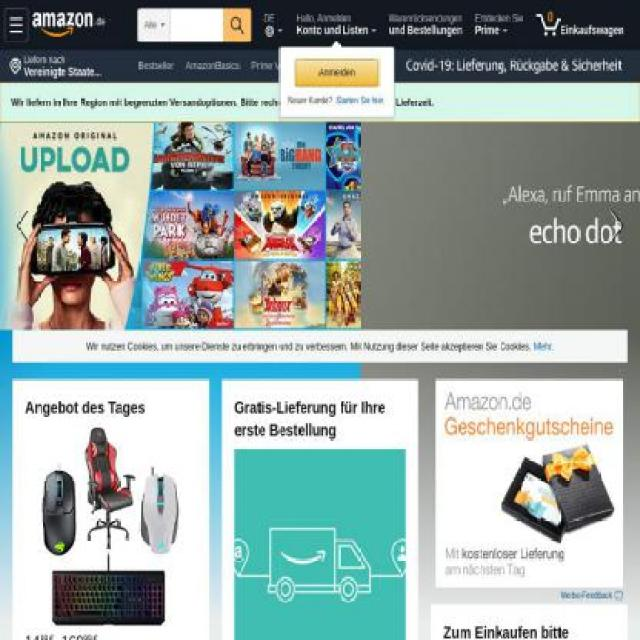button: (25, 427, 197, 627), (233, 448, 407, 640), (0, 122, 51, 330), (590, 122, 639, 330), (390, 50, 639, 84), (530, 5, 638, 47), (32, 4, 134, 45), (291, 5, 383, 47), (383, 5, 468, 47), (7, 51, 108, 83), (5, 8, 112, 38), (468, 5, 530, 47), (133, 128, 244, 150), (295, 59, 379, 87), (133, 92, 212, 113), (288, 92, 360, 113), (133, 165, 201, 187), (292, 128, 359, 150), (299, 165, 366, 187), (255, 5, 290, 47), (181, 55, 245, 77), (133, 202, 198, 223), (245, 55, 301, 77), (201, 165, 253, 187), (133, 55, 179, 77), (244, 128, 290, 150), (199, 202, 246, 223), (255, 165, 298, 187), (213, 92, 258, 113), (4, 8, 28, 41), (559, 590, 624, 602), (259, 92, 287, 113)
field: (171, 8, 223, 41), (223, 8, 252, 41)
